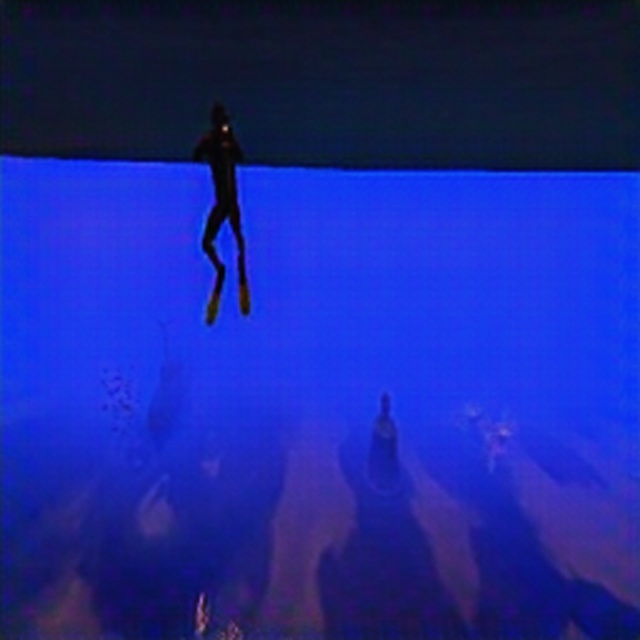diver: (191, 98, 251, 324)
